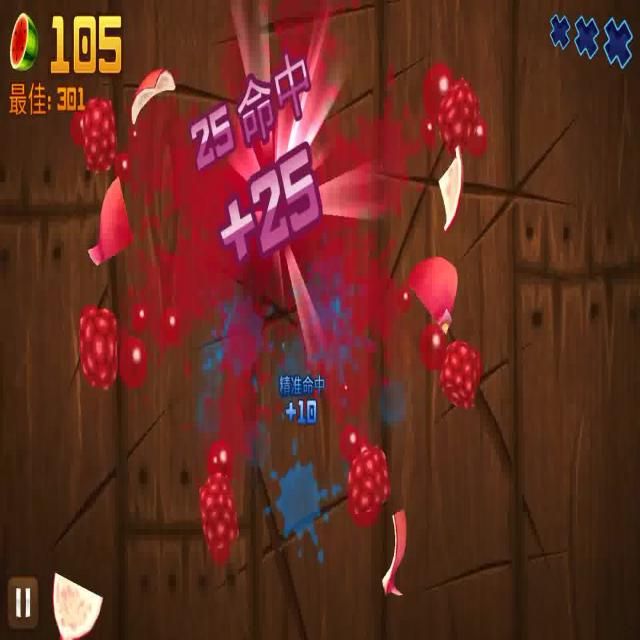fruit: (438, 334, 482, 412)
